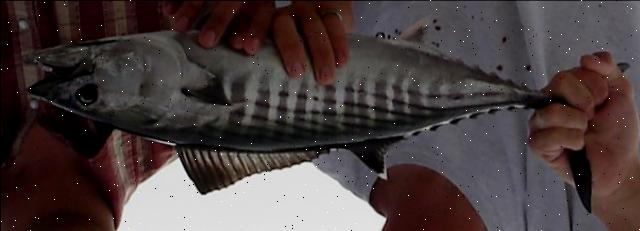Mulut: (16, 36, 78, 120)
Sirip Anal: (384, 13, 450, 65)
Sirip Dada: (175, 57, 248, 124)
Sirip Punggung: (160, 128, 422, 200)
